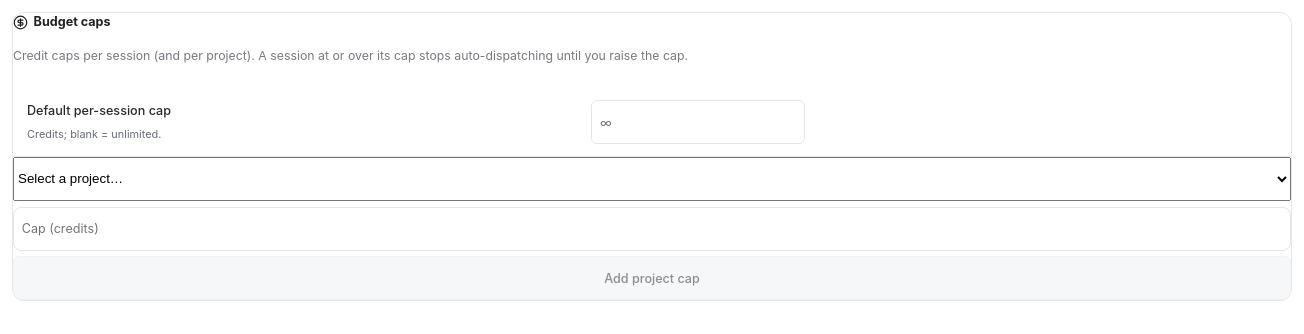
Scenario: BudgetSettings › explains invalid caps instead of silently doing nothing
The image size is (1304, 334).
Step 1. Select "repo" in the dropdown named "project path" → (652, 179), box [13, 157, 1291, 201]
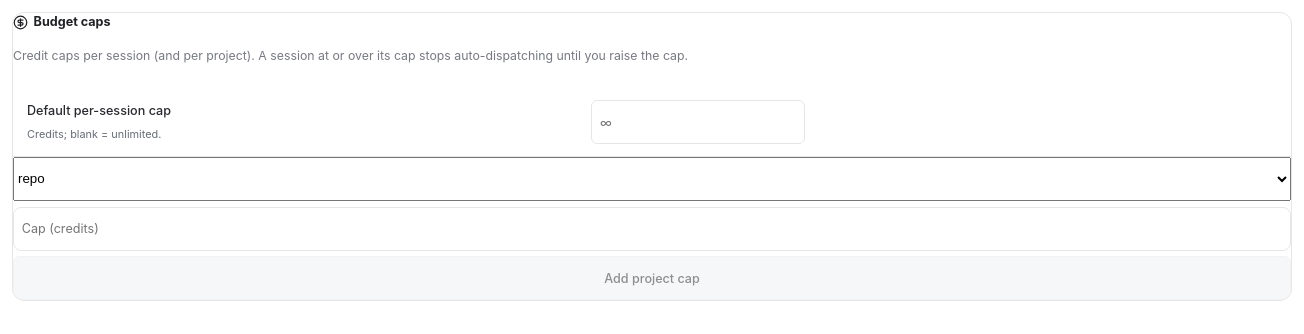
Step 2. Type "0" into the number field named "project cap" → (652, 228), box [13, 206, 1291, 250]
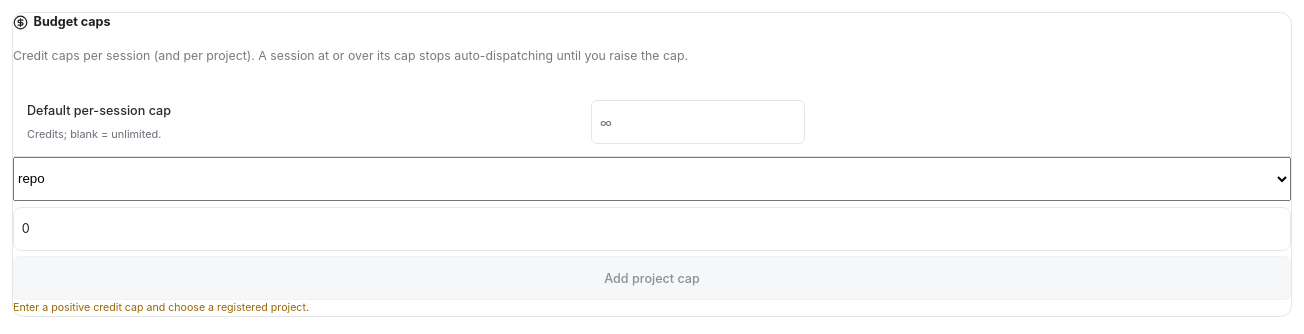
Expected: the button "Add project cap" is disabled, [13, 256, 1291, 300]
Result: the text "Enter a positive credit cap and choose a registered project." is shown at [13, 301, 309, 314]
